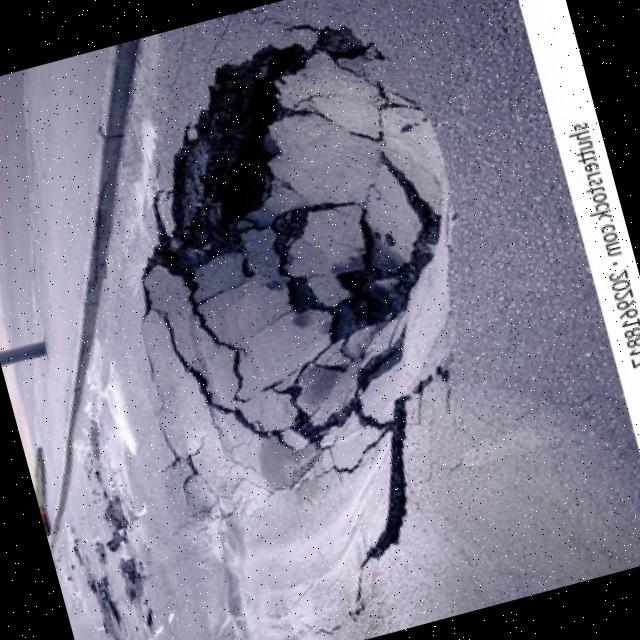road collapse: (30, 0, 581, 616)
